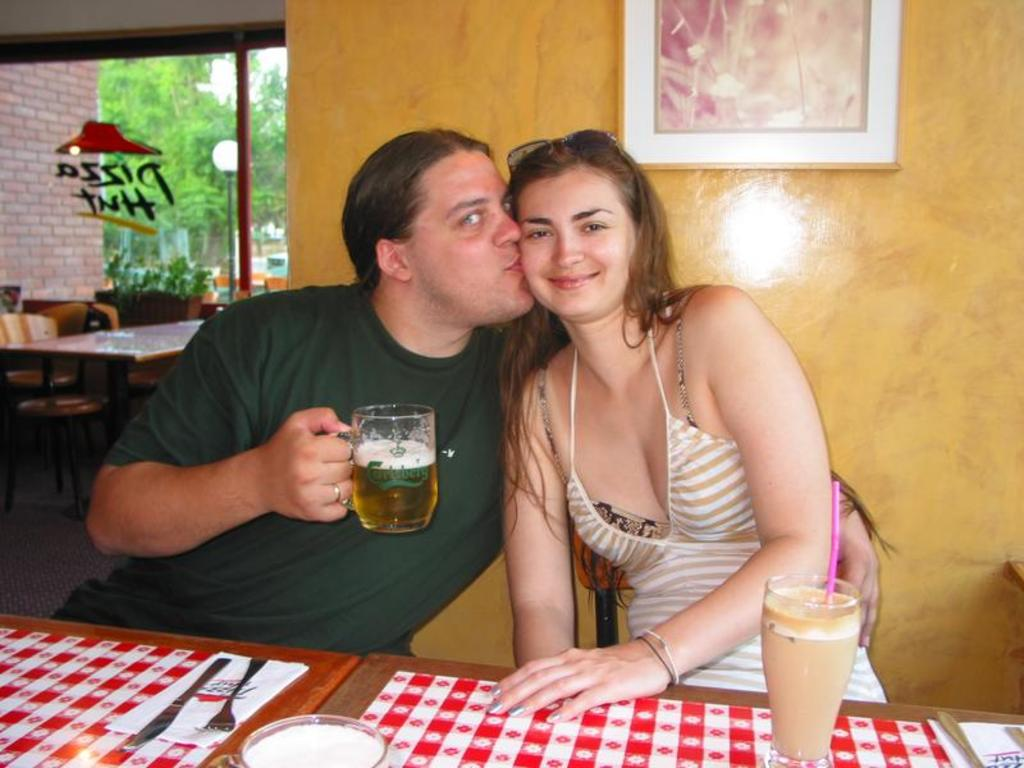Beer: (343, 439, 436, 533)
